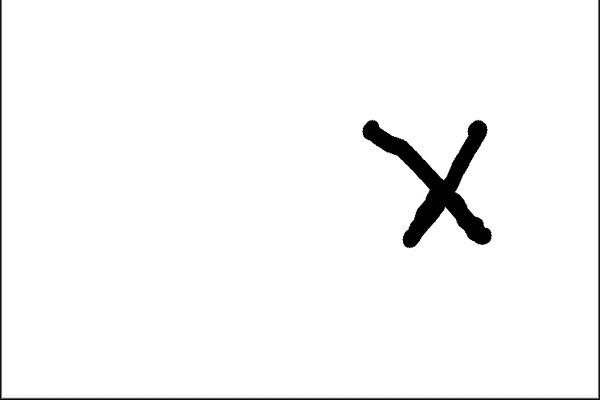X: (346, 109, 500, 254)
